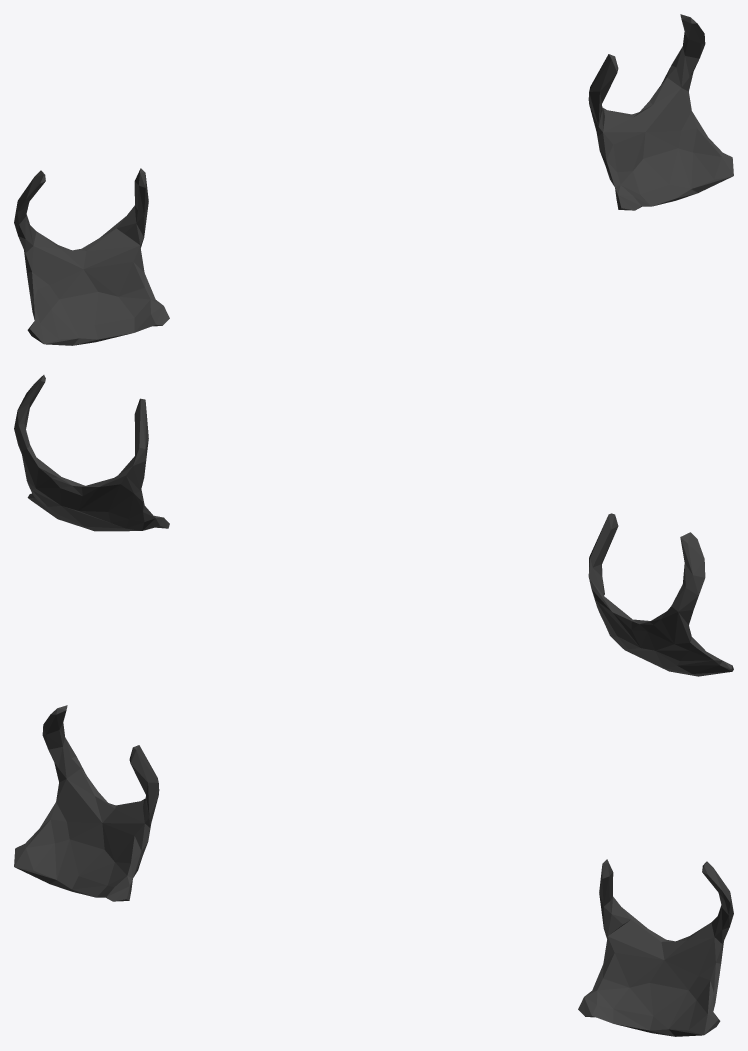
The model's file is lig_distal_digital_anular_HL.glb.
3 views of the same model, one above another, from view 1: azimuth 30°, elevation 25°; view 2: azimuth 150°, elevation 25°; view 3: azimuth 330°, elevation 25° (orthographic).
Parts seen in each view (by area): view 1: lig_distal_digital_anular_HL; view 2: lig_distal_digital_anular_HL; view 3: lig_distal_digital_anular_HL.
Part boxes in pixels (left/top/right/bottom): lig_distal_digital_anular_HL: left=14, top=14, right=733, bottom=345; lig_distal_digital_anular_HL: left=14, top=375, right=733, bottom=676; lig_distal_digital_anular_HL: left=14, top=705, right=733, bottom=1036.
Size of the model in its own units: 0.00611 by 0.00134 by 0.000749.
1 material, 1 textured.
